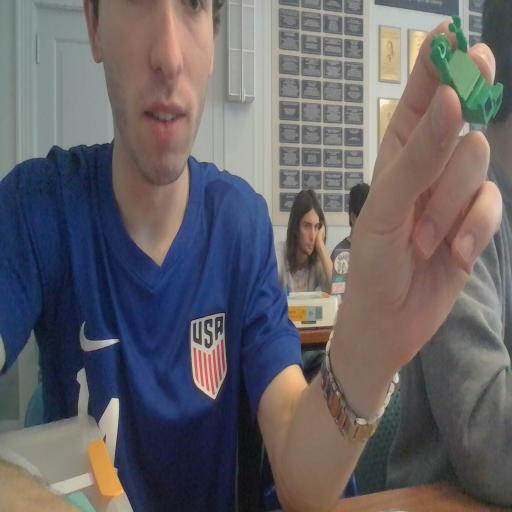green LEGO minifig: (429, 12, 502, 132)
